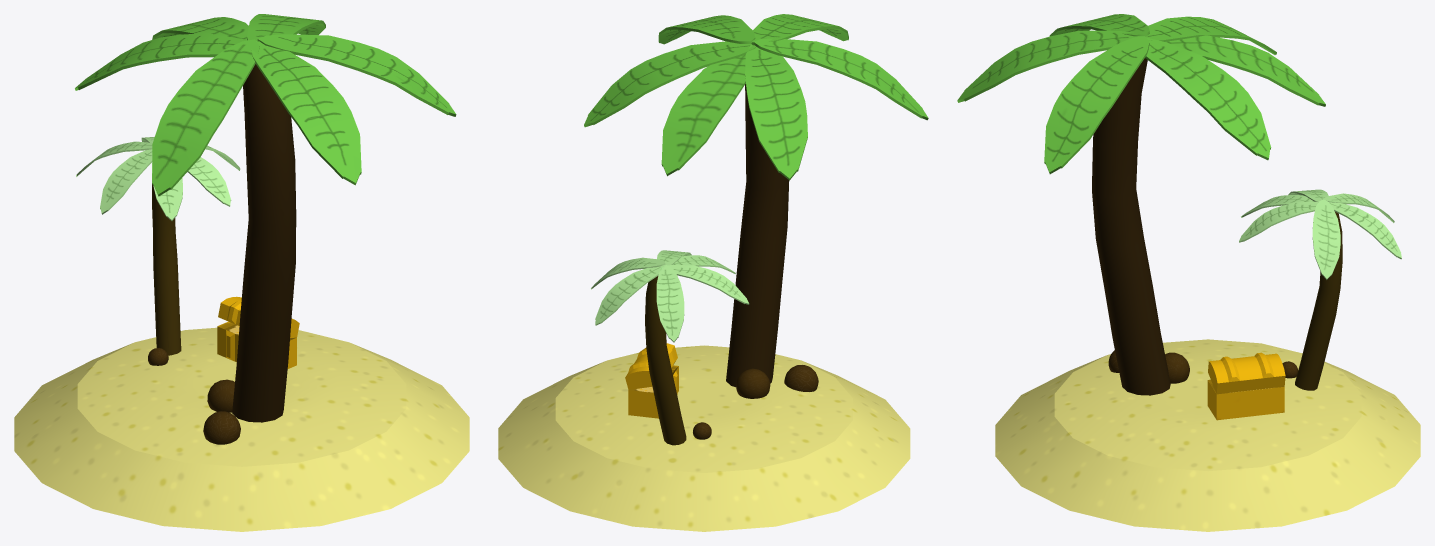
File: Island.FBX
3 views of the same model, side by side, from view 1: azimuth 30°, elevation 25°; view 2: azimuth 150°, elevation 25°; view 3: azimuth 270°, elevation 25° (orthographic). The views are drawn at different scales.
Parts seen in each view (by area): view 1: Island, Leaf 002, Tree, Tree 001, Bottom Chest, Sphere001, Sphere003; view 2: Island, Leaf 002, Tree, Tree 001, Bottom Chest, Sphere003, Sphere001; view 3: Island, Leaf 002, Tree, Bottom Chest, Tree 001, Sphere003.
Part boxes in pixels (<box>): Island: <box>14,327,469,531</box>; Leaf 002: <box>75,14,456,220</box>; Tree: <box>232,64,296,422</box>; Tree 001: <box>152,184,181,355</box>; Bottom Chest: <box>217,296,299,368</box>; Sphere001: <box>203,411,240,444</box>; Sphere003: <box>207,379,234,412</box>; Island: <box>498,345,910,531</box>; Leaf 002: <box>584,14,928,342</box>; Tree: <box>726,84,789,387</box>; Tree 001: <box>645,276,686,445</box>; Bottom Chest: <box>625,343,678,418</box>; Sphere003: <box>736,368,770,398</box>; Sphere001: <box>784,365,818,391</box>; Island: <box>995,339,1420,531</box>; Leaf 002: <box>957,14,1401,279</box>; Tree: <box>1092,58,1170,395</box>; Bottom Chest: <box>1207,352,1285,420</box>; Tree 001: <box>1295,212,1342,390</box>; Sphere003: <box>1165,352,1189,383</box>.
Bounding box in the file's own units: 123 × 124 × 132.
7 materials, 7 textured.
